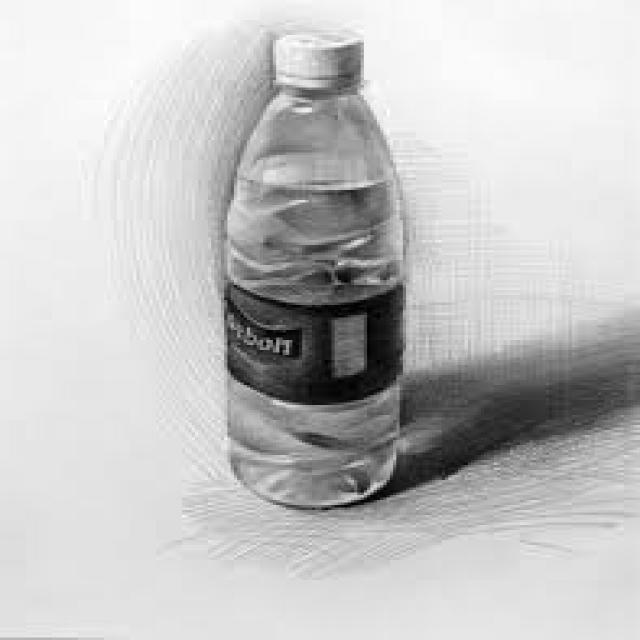Plastic: (226, 32, 406, 512)
